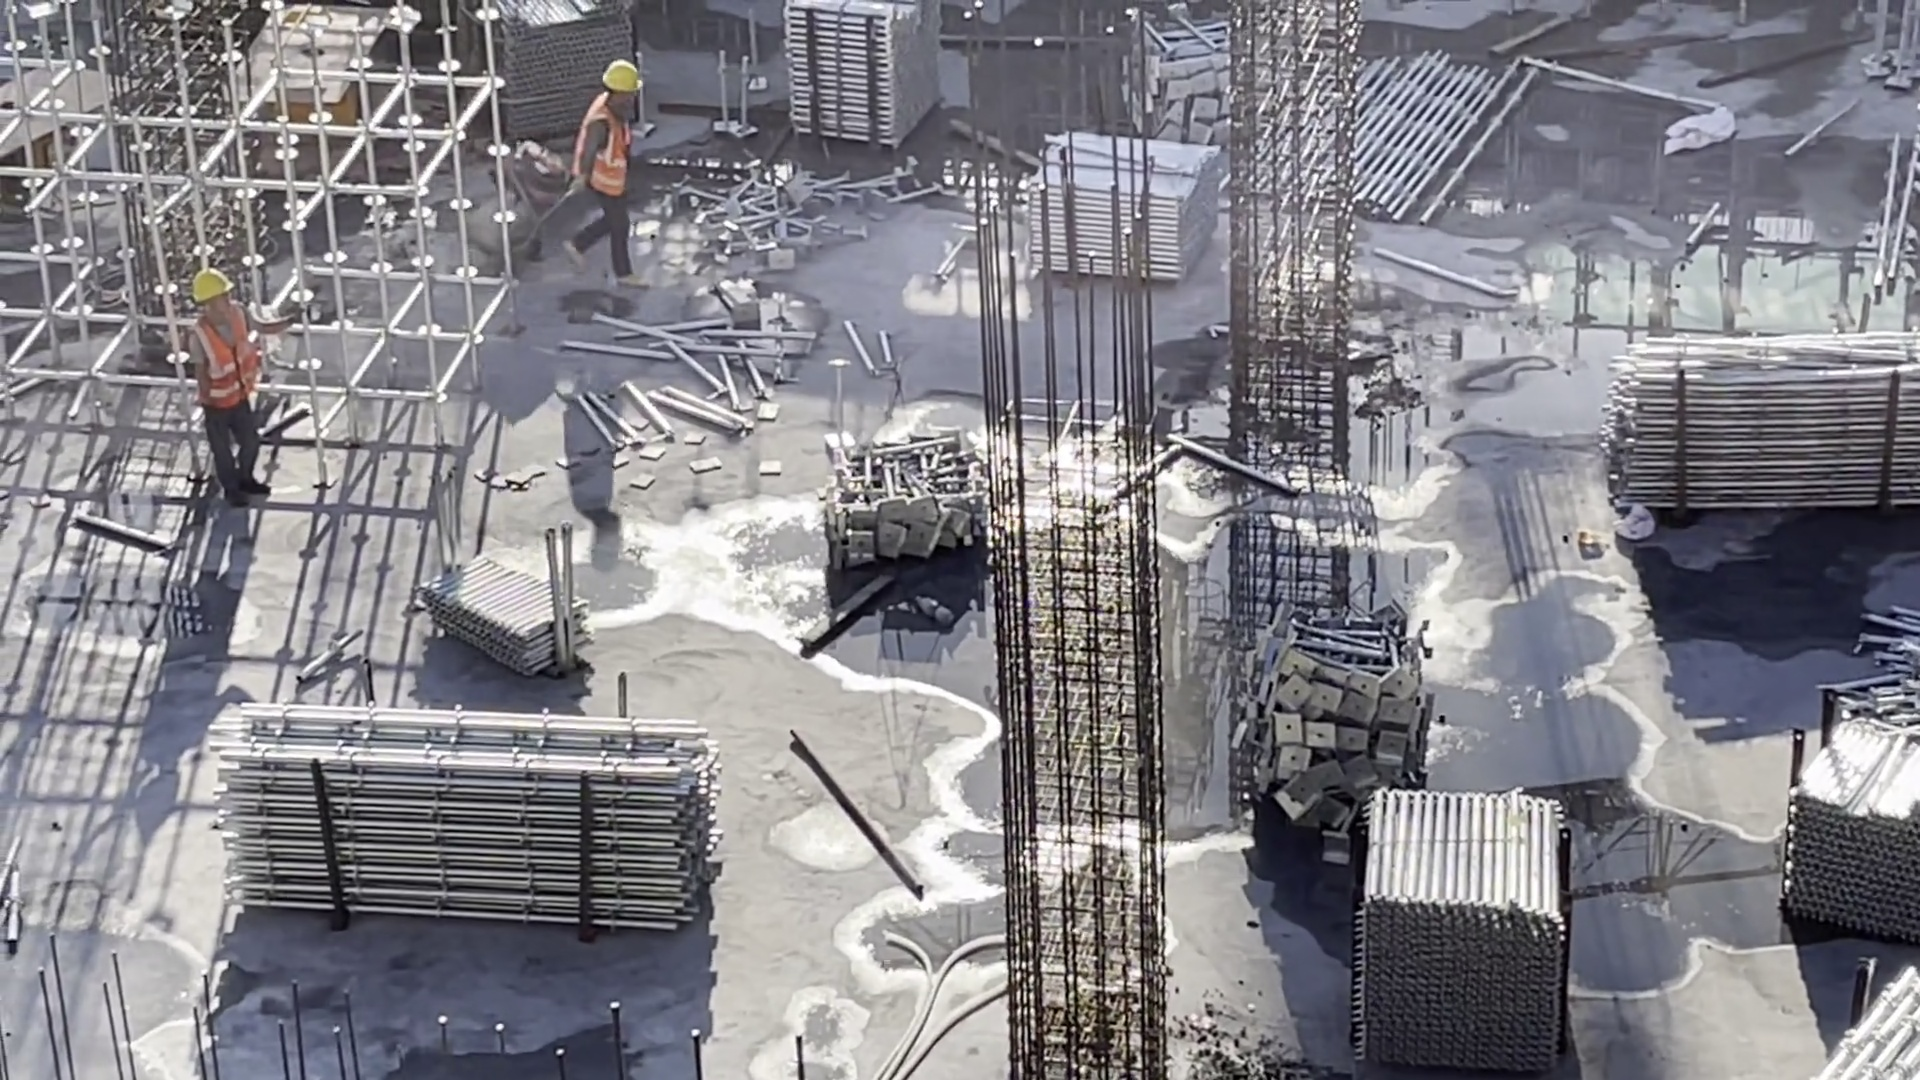cutter: (1, 52, 155, 205), (234, 4, 406, 126)
helmet: (186, 263, 240, 304), (600, 58, 649, 89)
person: (178, 263, 285, 490), (566, 60, 662, 286)
scaffold: (211, 693, 700, 928), (1349, 790, 1581, 1068), (1595, 326, 1911, 522), (1244, 617, 1419, 843), (1762, 709, 1920, 928), (1334, 52, 1553, 208), (1025, 121, 1214, 292), (416, 538, 601, 671), (823, 430, 1004, 564), (790, 1, 937, 152), (467, 1, 611, 146), (701, 173, 895, 250), (1143, 21, 1247, 165), (1797, 965, 1917, 1080), (1858, 603, 1920, 709)
vest: (191, 306, 271, 412), (579, 96, 641, 201)
